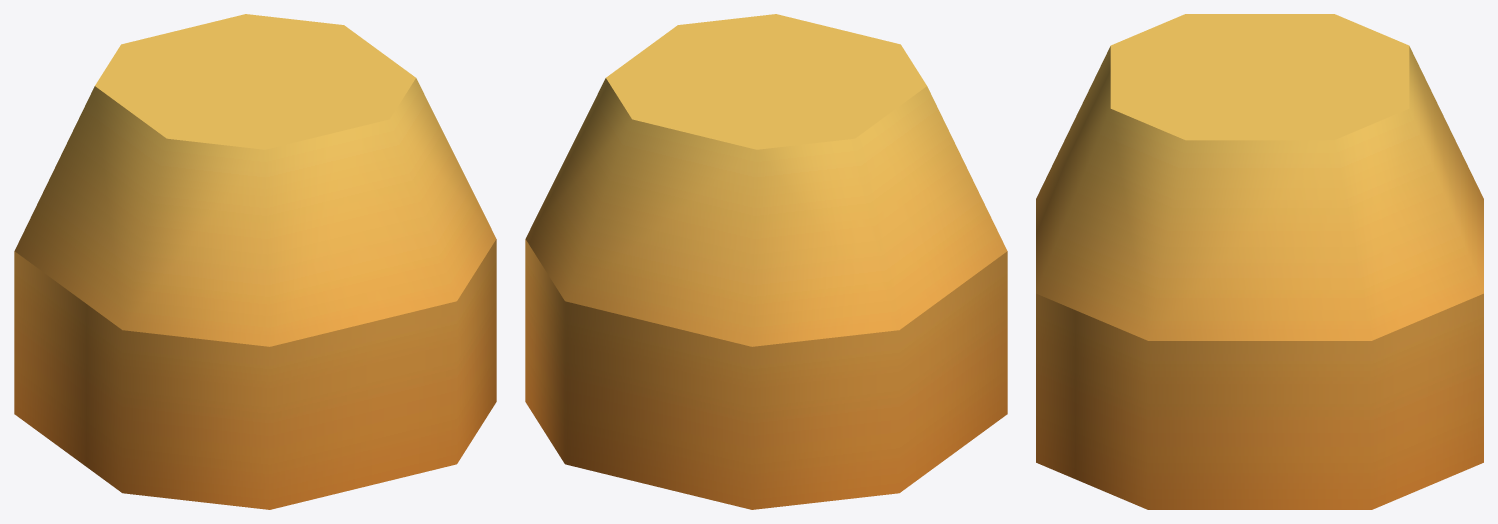
The model's file is support-color-single-bottom.glb.
The picture shows the model from 3 angles, left to right: view 1: azimuth 30°, elevation 25°; view 2: azimuth 150°, elevation 25°; view 3: azimuth 270°, elevation 25°; orthographic projection. The views are drawn at different scales.
Visible parts, largest first — view 1: support-color-single-bottom; view 2: support-color-single-bottom; view 3: support-color-single-bottom.
Boxes of the visible parts, x1,y1,x2,y2 form: support-color-single-bottom: (14,14,496,509); support-color-single-bottom: (525,14,1007,509); support-color-single-bottom: (1036,14,1483,509).
Size of the model in its own units: 0.6 by 0.5 by 0.6.
1 material, 1 textured.
